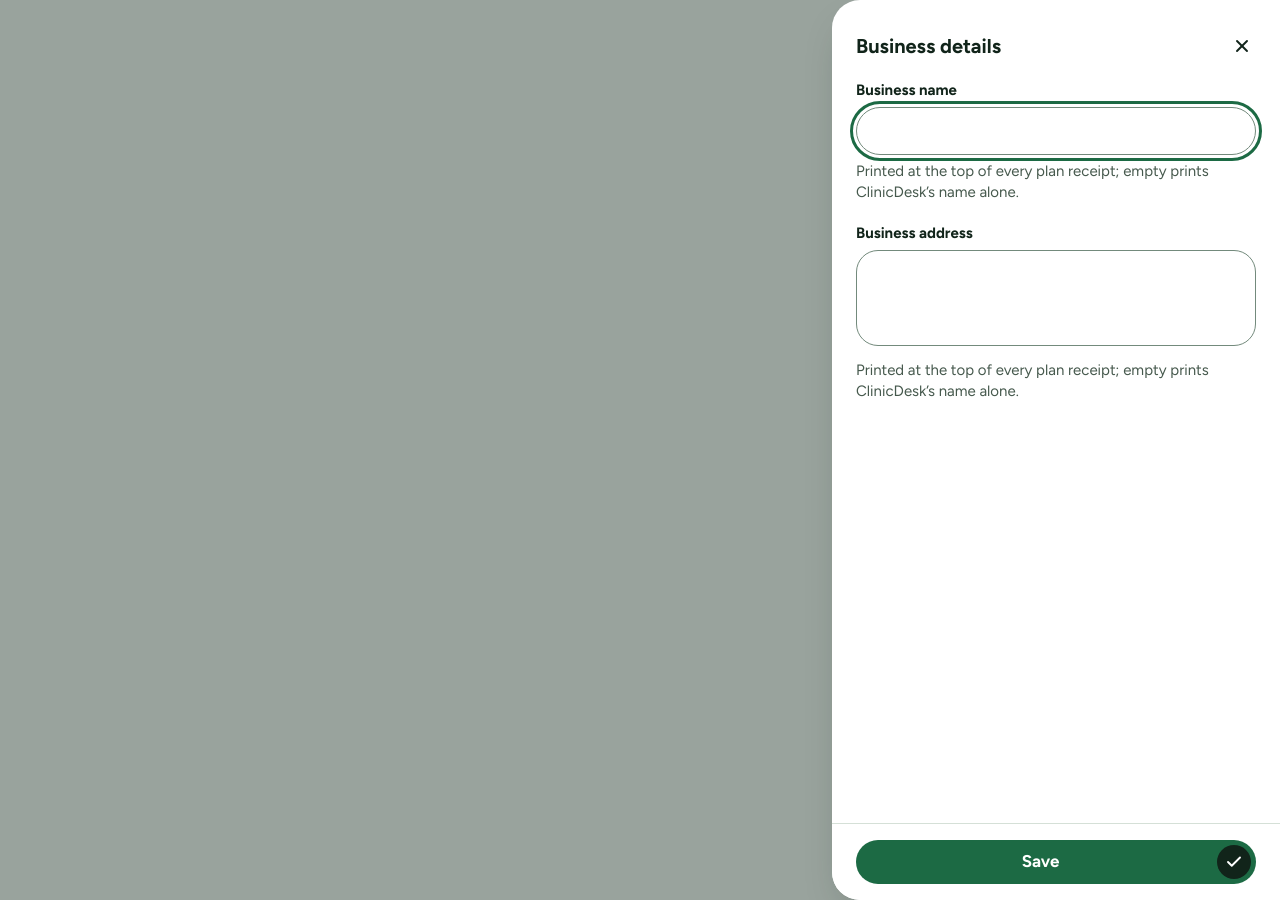
Test case: SettingsSheet (plan §20.4; D378 – D381) › gives the business details their fields: the name a line, the address several (R11.8)
Type "12 MG Road" into the text box labelled "Business address". click: (1056, 298)
box: left=856, top=250, right=1256, bottom=346
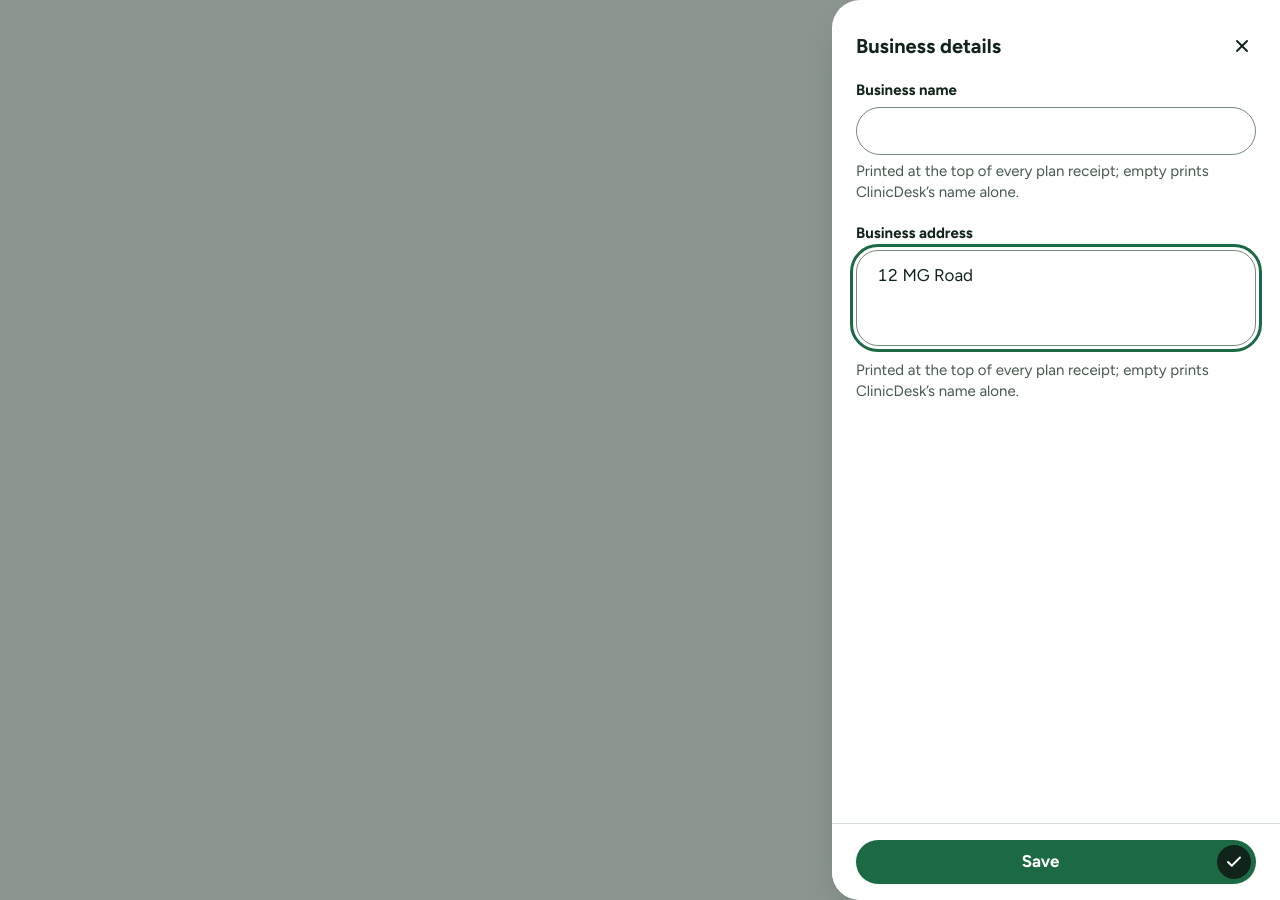
Click the button "Save". click: click(1056, 862)
box: left=856, top=840, right=1256, bottom=884
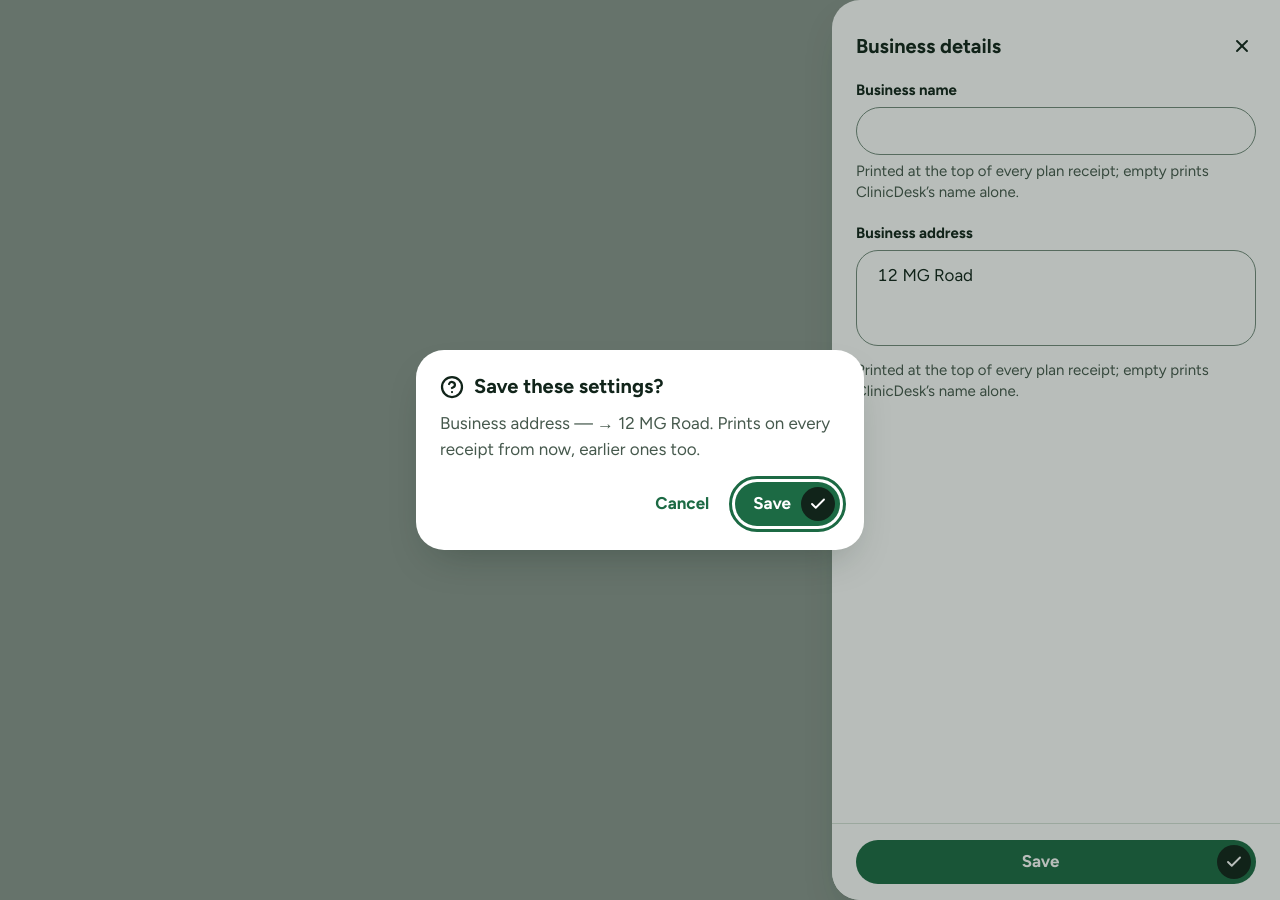
Now the text "Business address — → 12 MG Road." is shown, box left=440, top=413, right=830, bottom=458
